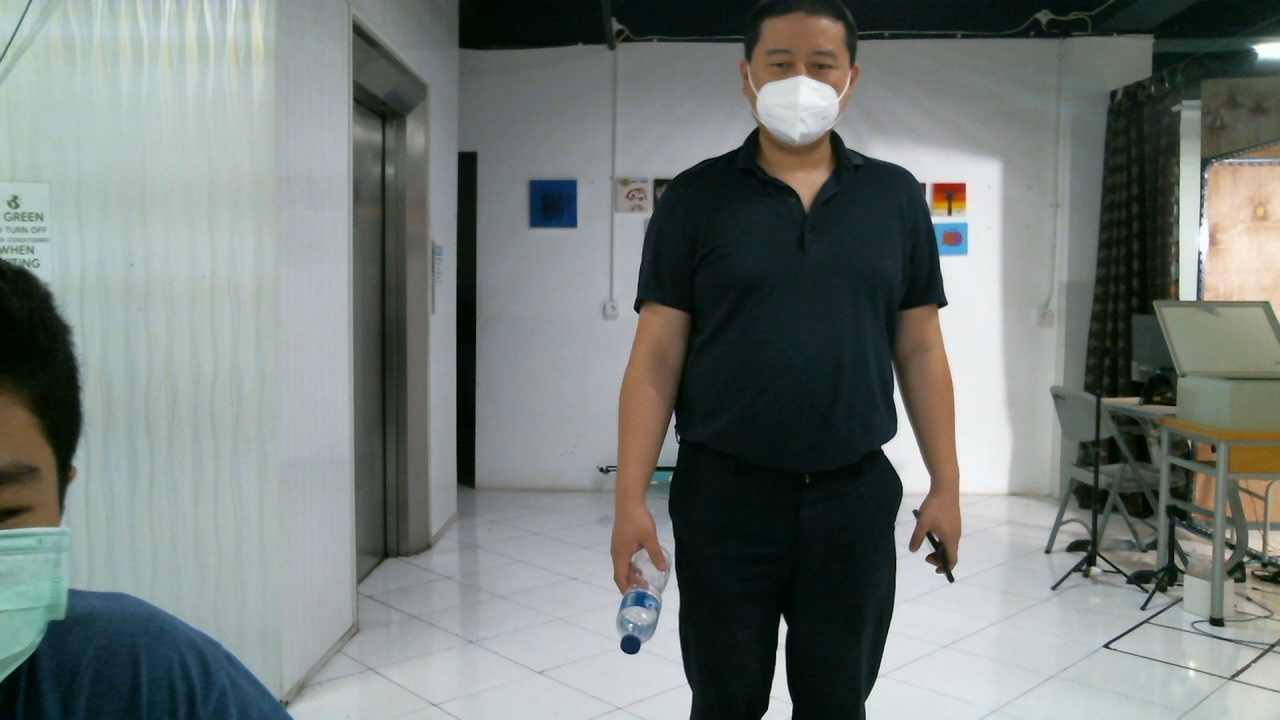Bottle: (617, 545, 662, 655)
